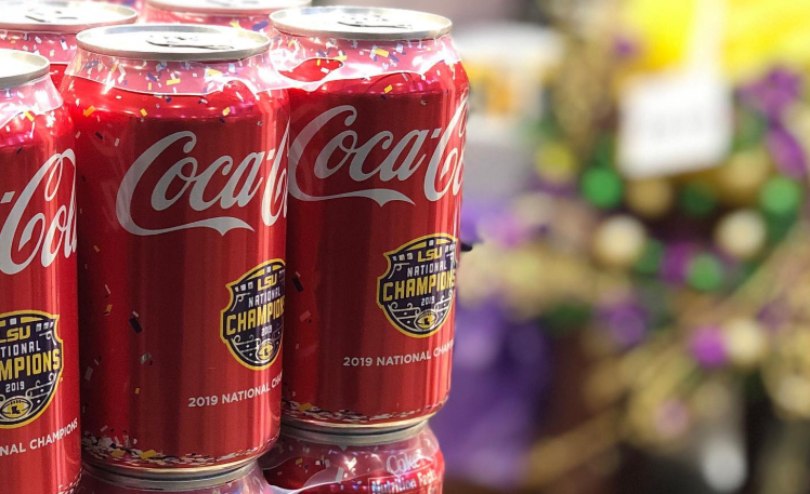coke: (104, 115, 286, 256), (289, 104, 465, 220), (4, 167, 73, 274)
